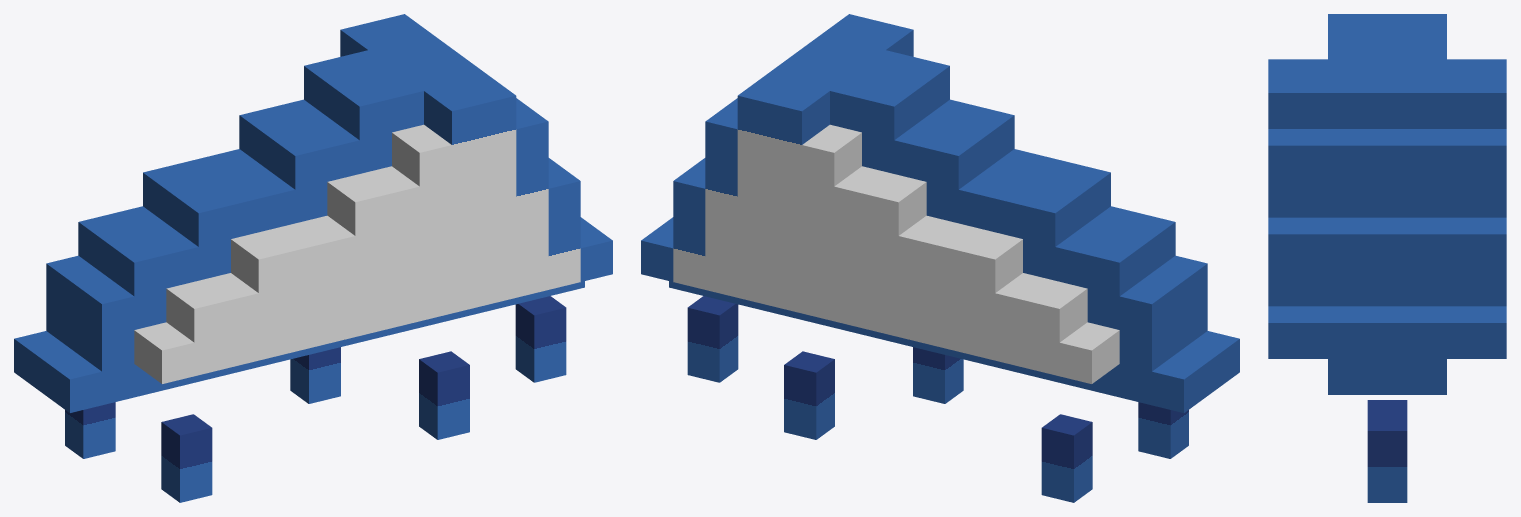
Rendered from cloud9.glb.
3 renders of one model, left to right at view 1: azimuth 30°, elevation 25°; view 2: azimuth 150°, elevation 25°; view 3: azimuth 270°, elevation 25°, orthographic. The views are drawn at different scales.
Parts seen in each view (by area): view 1: part_1 (×4), part_4, part_5, part_3, part_2; view 2: part_1 (×4), part_4, part_5, part_3, part_2; view 3: part_1 (×3), part_3, part_5.
Boxes of the visible parts, <box> form: part_1 (×4): <box>14,14,612,458</box>; part_4: <box>161,414,212,502</box>; part_5: <box>419,351,469,439</box>; part_3: <box>515,296,566,382</box>; part_2: <box>290,347,340,403</box>; part_1 (×4): <box>641,14,1239,458</box>; part_4: <box>1041,414,1092,502</box>; part_5: <box>784,351,834,439</box>; part_3: <box>687,296,738,382</box>; part_2: <box>913,347,963,403</box>; part_1 (×3): <box>1268,14,1506,394</box>; part_3: <box>1367,414,1407,502</box>; part_5: <box>1367,400,1407,414</box>.
Size of the model in its own units: 1.14 by 0.7857 by 0.4286.
Materials: 1 (1 with a texture image).
